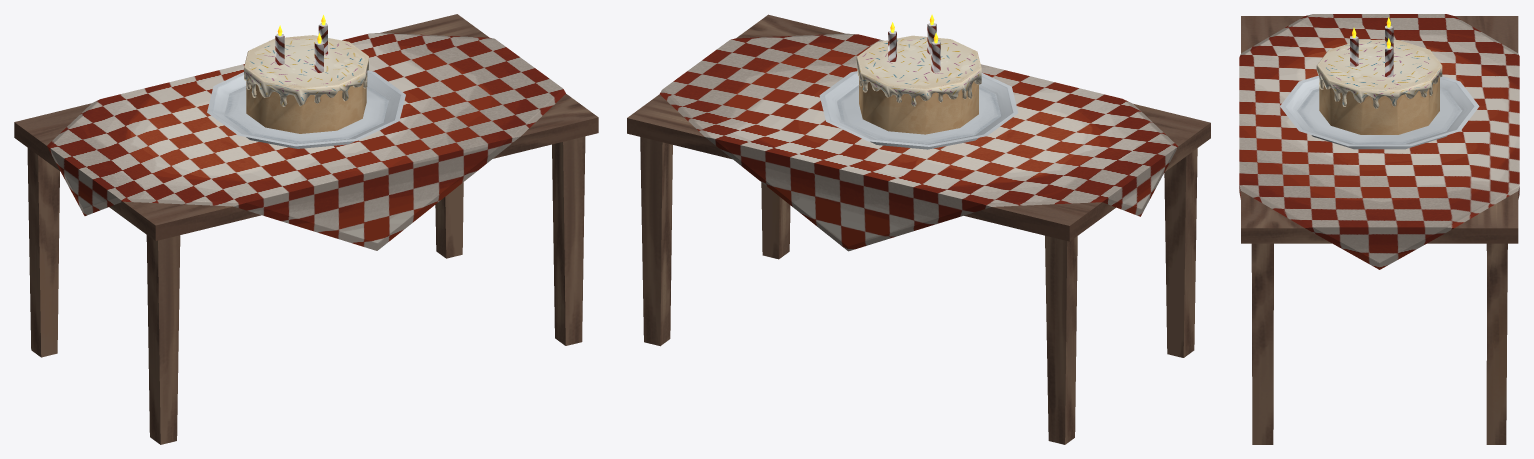
Rendered from Birthday_Table01.fbx.
3 views of the same model, side by side, from view 1: azimuth 30°, elevation 25°; view 2: azimuth 150°, elevation 25°; view 3: azimuth 270°, elevation 25° (orthographic).
Visible parts, largest first — view 1: Birthday_table01, Birthday_cake01; view 2: Birthday_table01, Birthday_cake01; view 3: Birthday_table01, Birthday_cake01.
Part boxes in pixels (x1,y1,x2,y2): Birthday_table01: (14, 14, 598, 444); Birthday_cake01: (207, 15, 405, 148); Birthday_table01: (627, 14, 1210, 444); Birthday_cake01: (819, 14, 1018, 149); Birthday_table01: (1239, 14, 1519, 444); Birthday_cake01: (1280, 17, 1479, 149).
Bounding box in the file's own units: 2.2 × 1.52 × 1.22.
3 materials, 2 textured.
